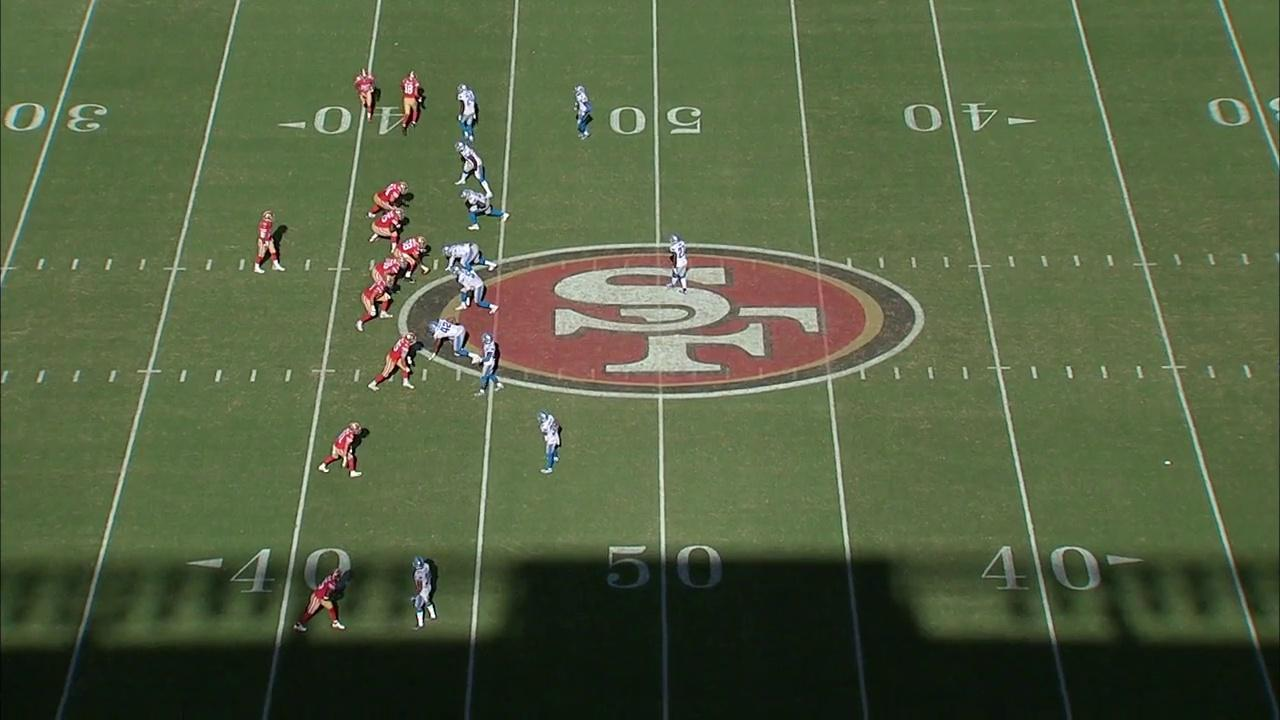player: (301, 566, 351, 638), (419, 316, 478, 368), (324, 417, 366, 487), (374, 331, 419, 396), (449, 262, 498, 319), (400, 553, 437, 627), (456, 190, 514, 233), (253, 206, 281, 283), (353, 278, 395, 329), (393, 228, 440, 273), (392, 76, 429, 133), (369, 176, 417, 219), (450, 140, 490, 190), (539, 411, 566, 478), (663, 231, 693, 290), (450, 83, 482, 138), (570, 81, 597, 145), (441, 243, 497, 271), (369, 209, 404, 251), (479, 334, 502, 395), (350, 69, 379, 115), (365, 256, 414, 281)
